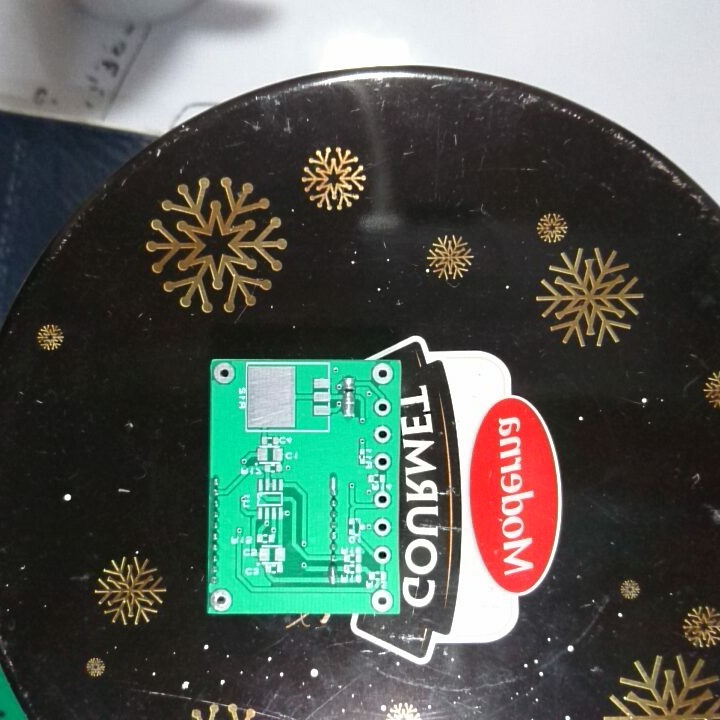F: (369, 361, 397, 387), (208, 587, 234, 613), (211, 361, 237, 386), (370, 588, 395, 612), (371, 488, 393, 510), (372, 515, 393, 538), (371, 544, 392, 566), (373, 395, 393, 418), (370, 451, 393, 471), (371, 423, 392, 444)
P: (341, 390, 357, 419), (327, 472, 339, 498), (326, 563, 337, 588)
